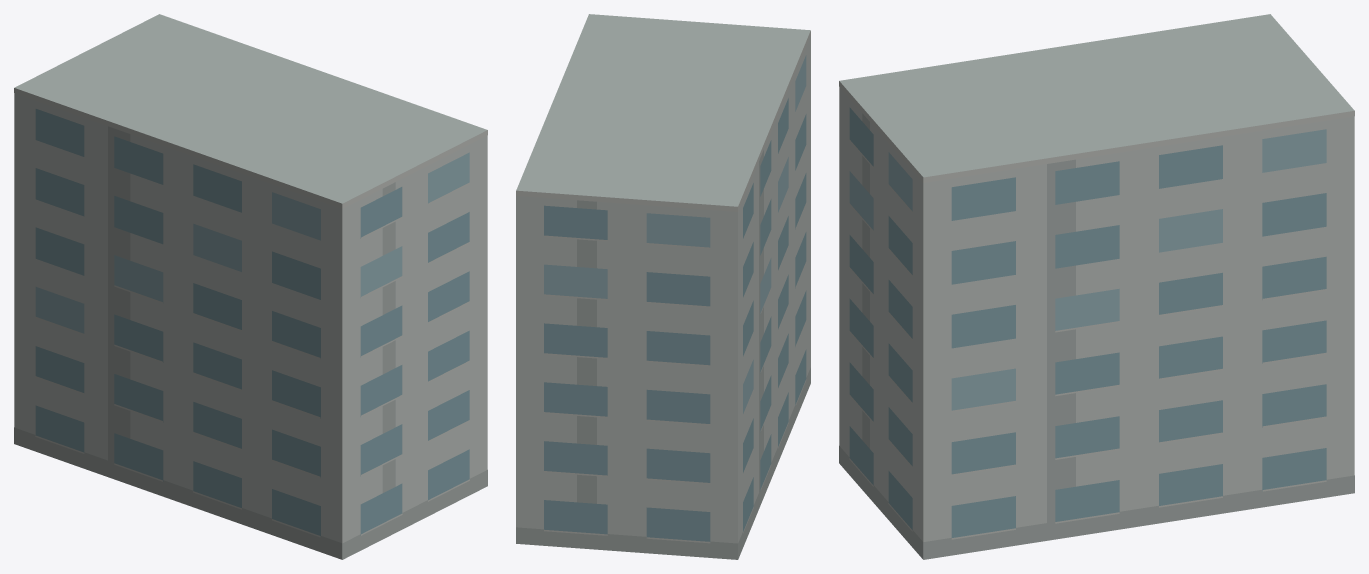
File: survey-upis-32852154.glb
3 renders of one model, left to right at view 1: azimuth 30°, elevation 25°; view 2: azimuth 150°, elevation 25°; view 3: azimuth 270°, elevation 25°, orthographic. The views are drawn at different scales.
Parts seen in each view (by area): view 1: survey-upis-32852154.tmp; view 2: survey-upis-32852154.tmp; view 3: survey-upis-32852154.tmp.
Boxes of the visible parts, x1,y1,x2,y2 form: survey-upis-32852154.tmp: (14,14,487,559); survey-upis-32852154.tmp: (516,14,810,559); survey-upis-32852154.tmp: (839,14,1354,559).
Size of the model in its own units: 14.99 by 16.35 by 19.99.
